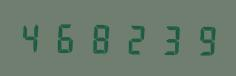eight: (84, 19, 116, 55)
four: (17, 18, 49, 54)
nine: (183, 21, 215, 57)
six: (50, 18, 82, 55)
three: (150, 20, 182, 57)
two: (117, 19, 149, 56)
